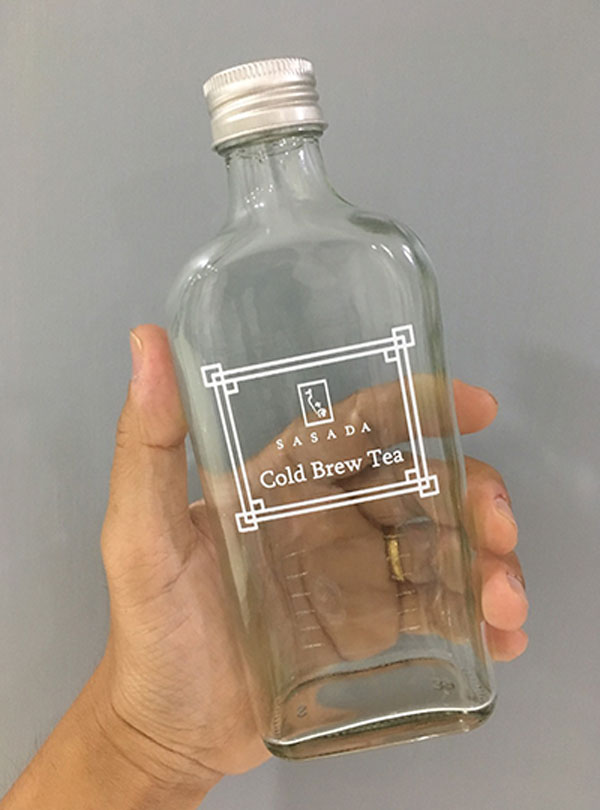glass_bottle: (161, 48, 502, 766)
